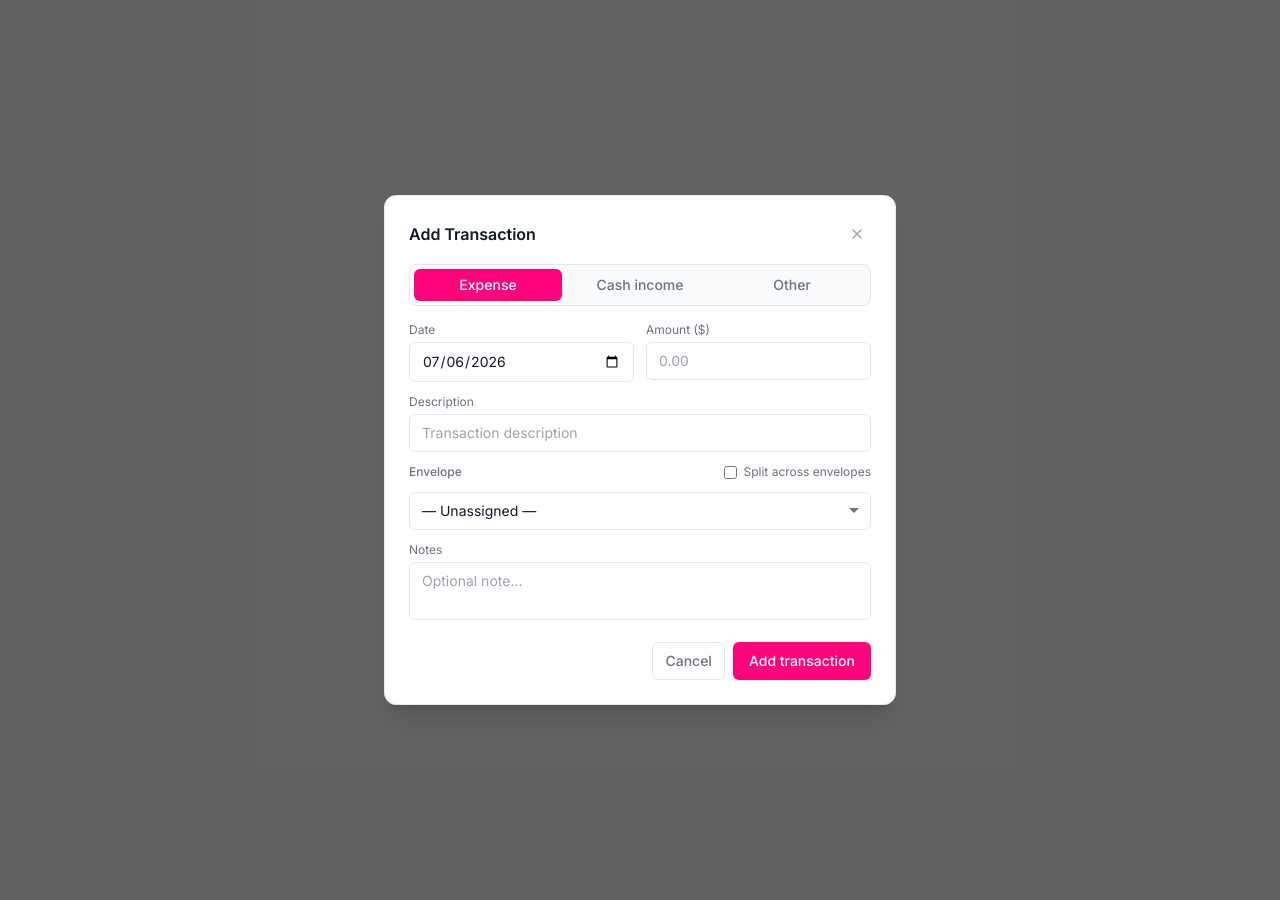
it: Flow 2 — Add transaction: Cash income tab › enables split mode and shows at least two split lines
Click the button "Cash income".
click(640, 285)  # box [566,269,714,301]
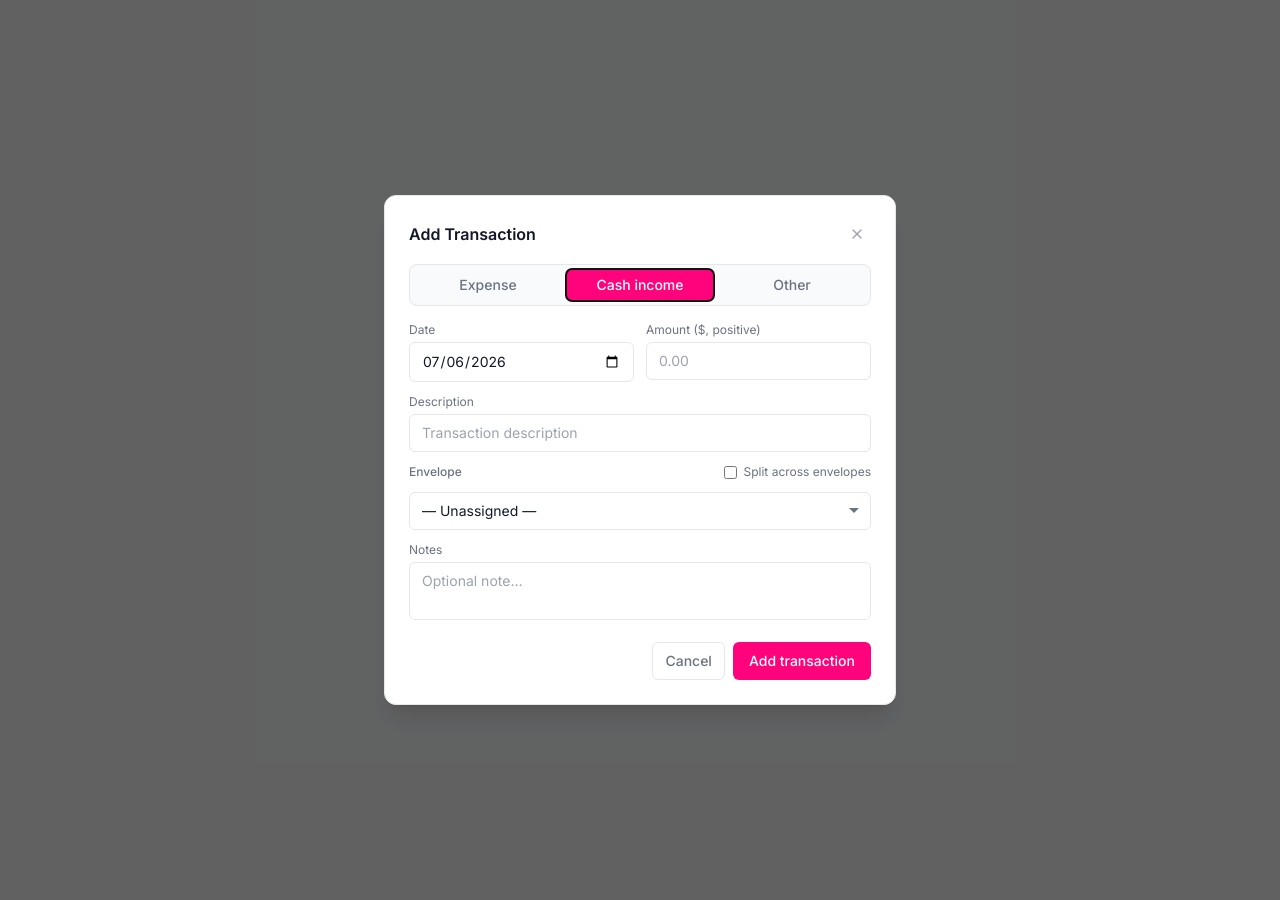
Note: Enable split mode
Click the checkbox.
click(731, 472)  # box [724,466,738,478]
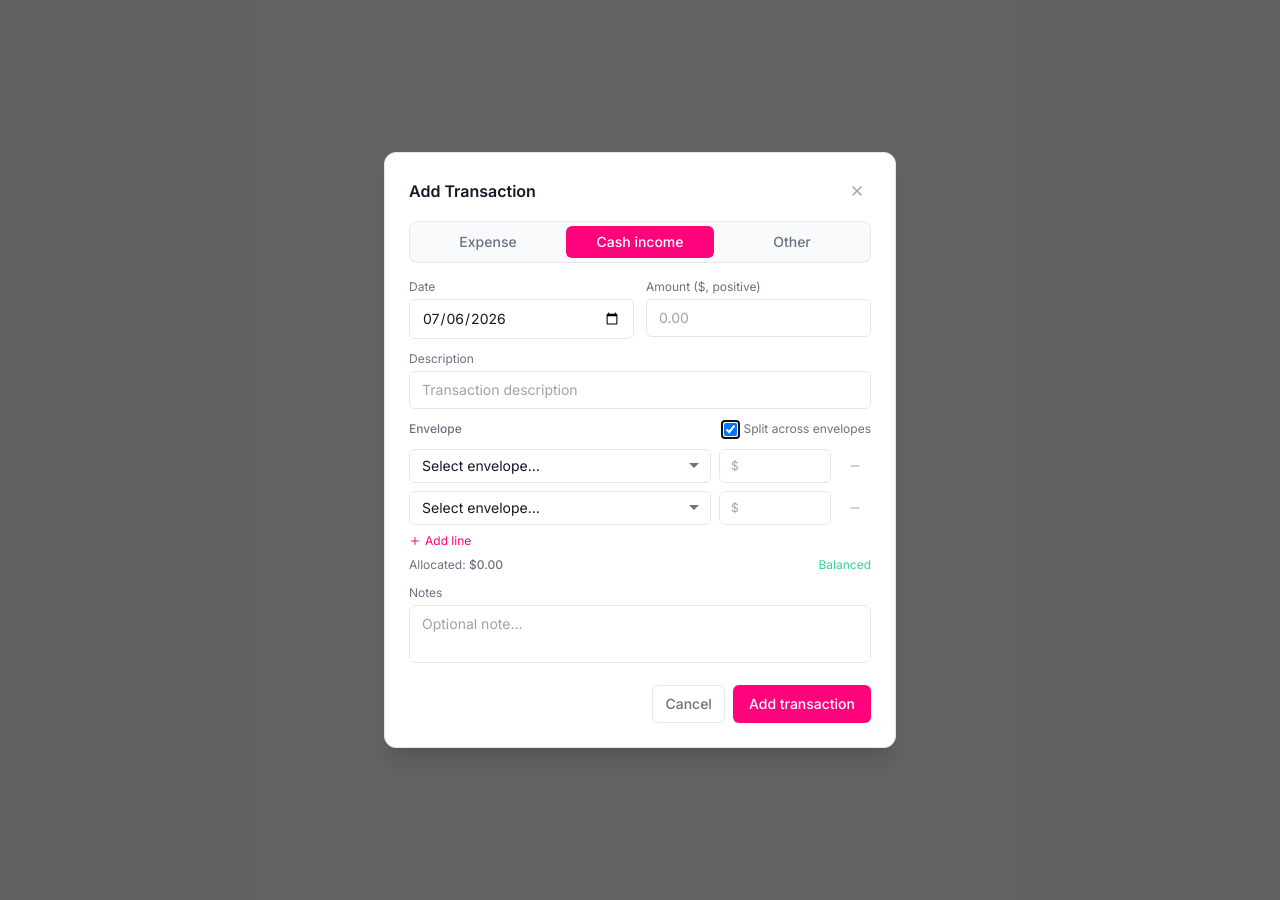
Now the button "Add line" is shown, box [409,533,471,549]
